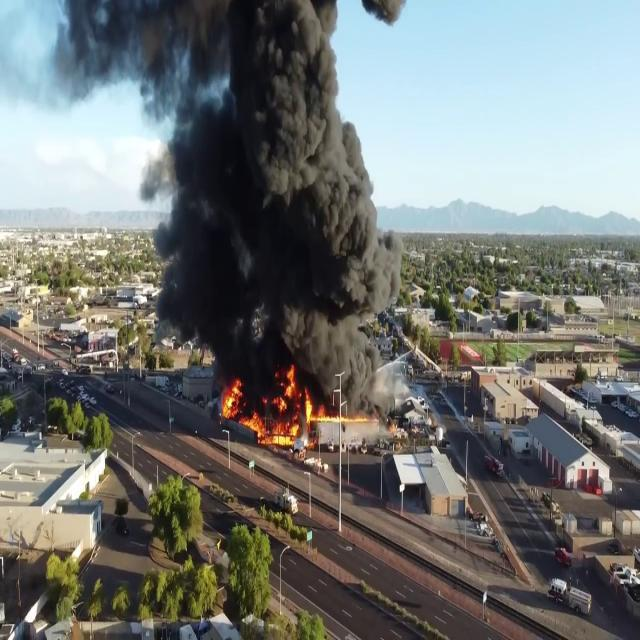Fire: (222, 356, 334, 456), (314, 409, 374, 424)
Smoke: (60, 0, 408, 360)
